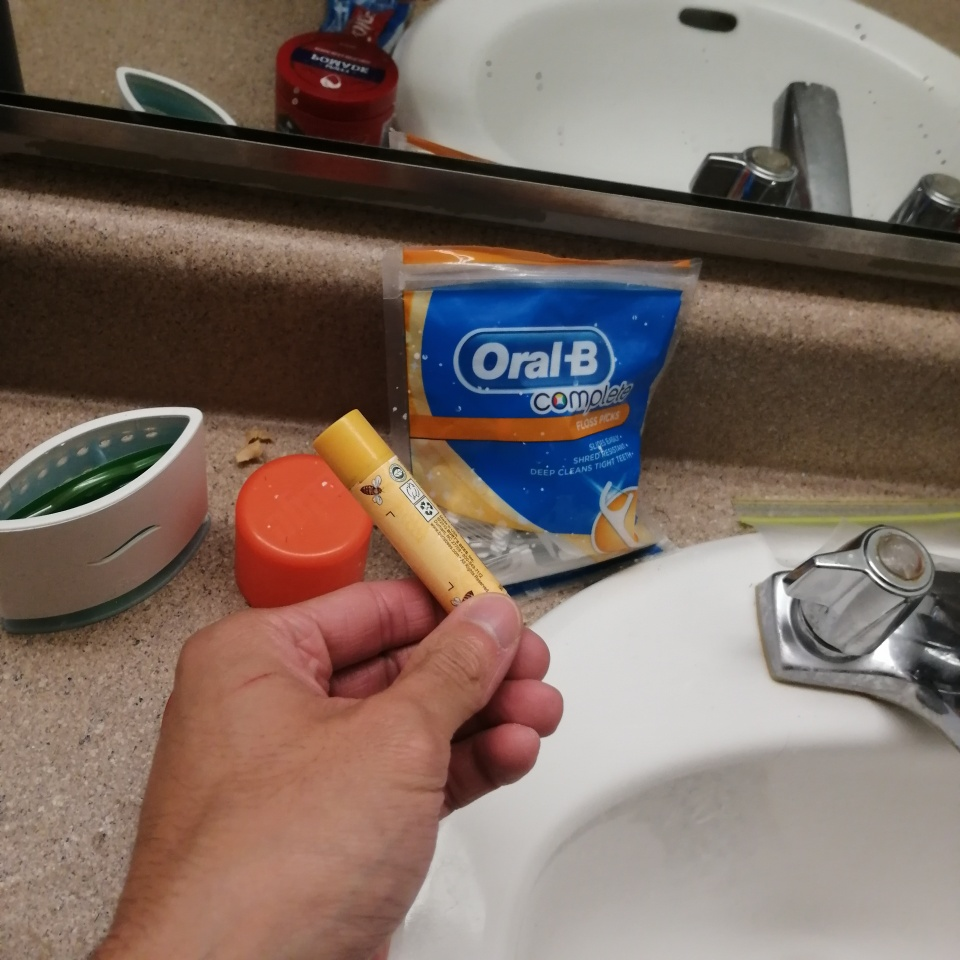chapstick: (312, 407, 512, 614)
